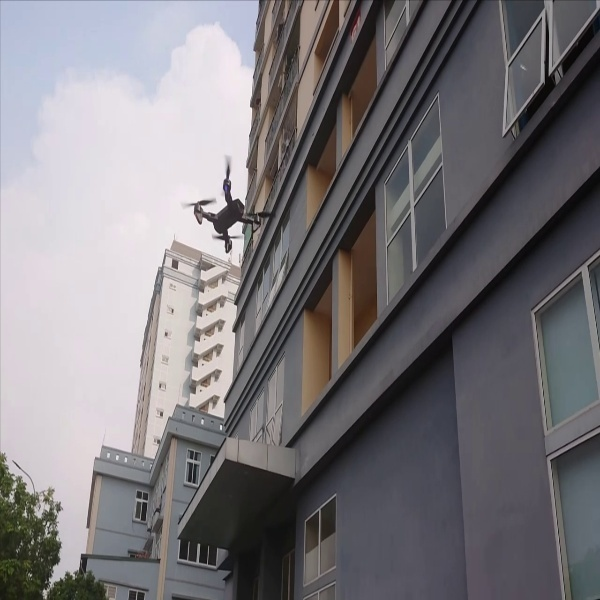drone: (184, 153, 273, 252)
